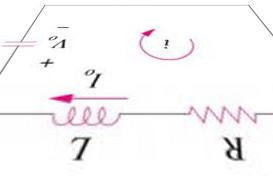inductor: (40, 104, 129, 131)
